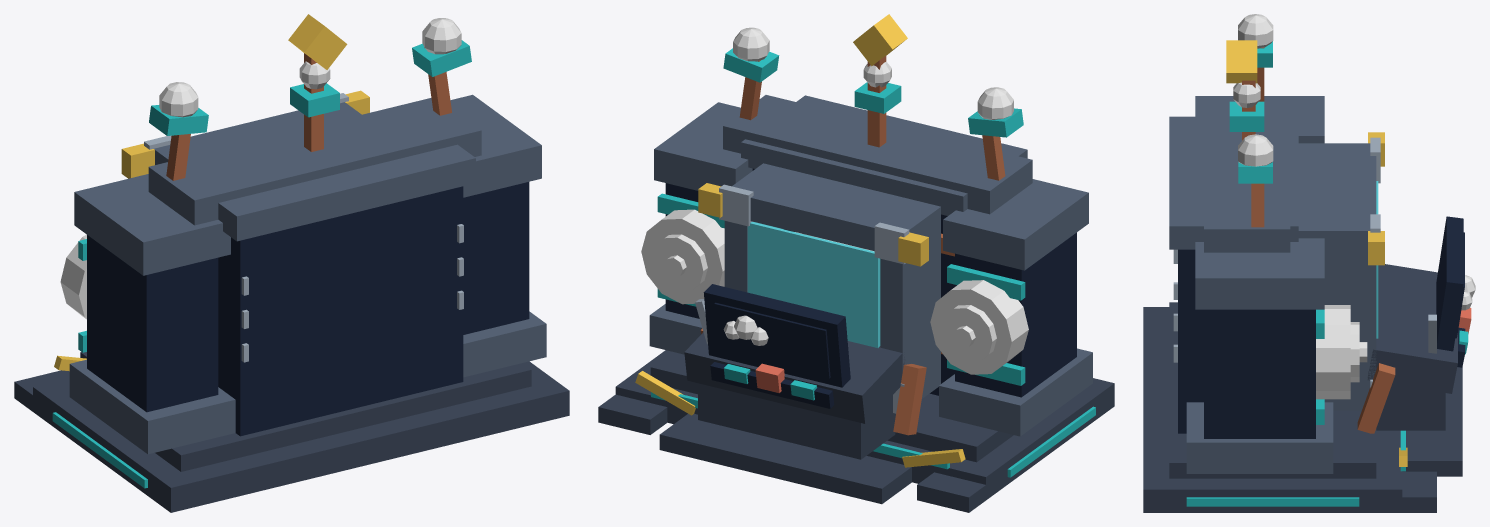
File: KLC_Future_WeatherMachine.fbx
The picture shows the model from 3 angles, left to right: view 1: azimuth 30°, elevation 25°; view 2: azimuth 150°, elevation 25°; view 3: azimuth 270°, elevation 25°; orthographic projection. The views are drawn at different scales.
Parts seen in each view (by area): view 1: MainCabinet_Back, Base_Lower, GeneratorHousing_L, TopBridge, CabinetCap, GeneratorCap_L, GeneratorHousing_R, Base_Upper, GeneratorBase_L, GeneratorCap_R, GeneratorBase_R, Chamber_Header (+14 smaller); view 2: TopBridge, WeatherChamber_GlassFront, Chamber_Header, Front_AccessStep, GeneratorHousing_L, GeneratorCap_L, ConsolePedestal, Base_Lower, CabinetCap, ConsoleTop, GeneratorBase_L, Chamber_Post_L (+37 smaller); view 3: GeneratorHousing_R, Base_Lower, TopBridge, GeneratorCap_R, Chamber_Header, ConsoleTop, GeneratorBase_R, CabinetCap, Base_Upper, Chamber_Post_R, MainCabinet_Back, Front_AccessStep (+17 smaller).
Part boxes in pixels (x1,y1,x2,y2): MainCabinet_Back: [218, 186, 463, 436]; Base_Lower: [33, 361, 569, 512]; GeneratorHousing_L: [87, 235, 218, 412]; TopBridge: [148, 98, 481, 225]; CabinetCap: [218, 144, 475, 241]; GeneratorCap_L: [74, 174, 230, 275]; GeneratorHousing_R: [463, 182, 529, 334]; Base_Upper: [155, 363, 531, 471]; GeneratorBase_L: [69, 359, 235, 454]; GeneratorCap_R: [450, 94, 541, 197]; GeneratorBase_R: [463, 311, 546, 377]; Chamber_Header: [154, 102, 361, 164]; TopBridge: [723, 95, 1032, 214]; WeatherChamber_GlassFront: [747, 221, 880, 347]; Chamber_Header: [732, 163, 940, 251]; Front_AccessStep: [659, 413, 911, 504]; GeneratorHousing_L: [955, 232, 1076, 397]; GeneratorCap_L: [943, 179, 1088, 270]; ConsolePedestal: [698, 383, 895, 459]; Base_Lower: [615, 350, 1114, 500]; CabinetCap: [741, 95, 1027, 215]; ConsoleTop: [684, 332, 904, 423]; GeneratorBase_L: [939, 348, 1092, 436]; Chamber_Post_L: [880, 230, 940, 372]; GeneratorHousing_R: [1204, 309, 1315, 438]; Base_Lower: [1143, 307, 1402, 512]; TopBridge: [1204, 98, 1290, 252]; GeneratorCap_R: [1195, 238, 1324, 309]; Chamber_Header: [1298, 143, 1376, 254]; ConsoleTop: [1367, 264, 1457, 393]; GeneratorBase_R: [1186, 402, 1333, 473]; CabinetCap: [1169, 116, 1298, 249]; Base_Upper: [1169, 302, 1376, 478]; Chamber_Post_R: [1324, 254, 1376, 387]; MainCabinet_Back: [1178, 249, 1203, 433]; Front_AccessStep: [1402, 367, 1462, 476].
Bounding box in the file's own units: 318 × 304 × 240.
Materials: 10 (10 with a texture image).
